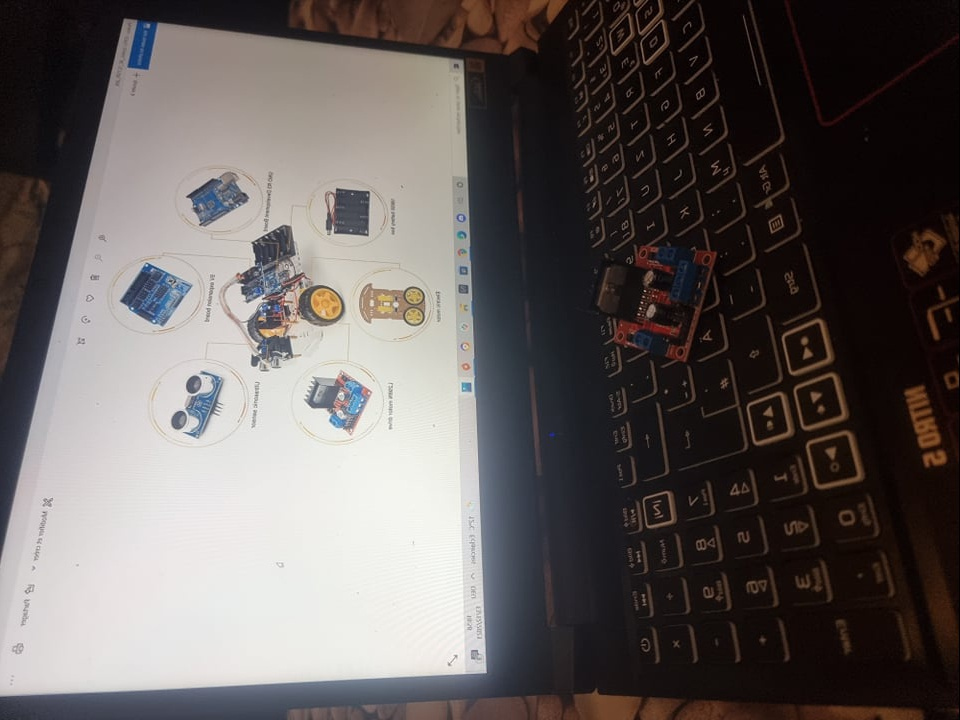5V EXPANSION: (117, 258, 195, 329)
BATTERY BOX: (334, 189, 373, 238)
MOTOR: (596, 233, 722, 363), (303, 368, 372, 435)
SENSOR: (165, 371, 223, 439), (255, 356, 289, 378)
UNO R3: (182, 170, 256, 232)
